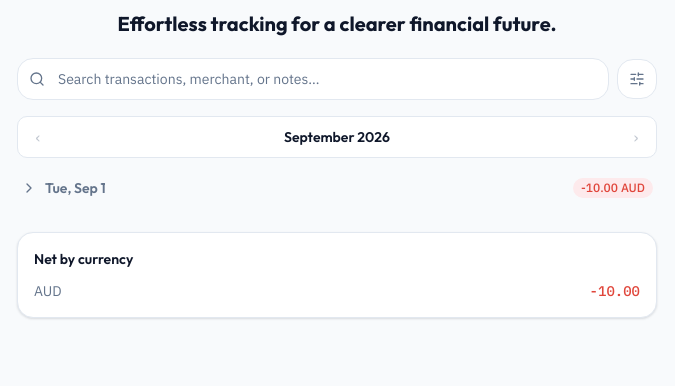
按天折叠（UX brief 要求：今天默认展开，其余天默认收起） › 点天头可以展开/收起对应的那一天
Click the button "Tue, Sep 1 -10.00 AUD" at (75, 188), box top-left (17, 174), bottom-right (657, 202)
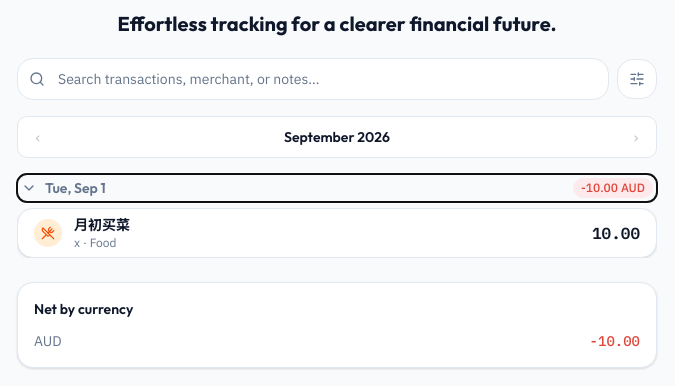
Now the button "Tue, Sep 1 -10.00 AUD" is expanded
Click the button "Tue, Sep 1 -10.00 AUD" at (75, 188), box top-left (17, 174), bottom-right (657, 202)
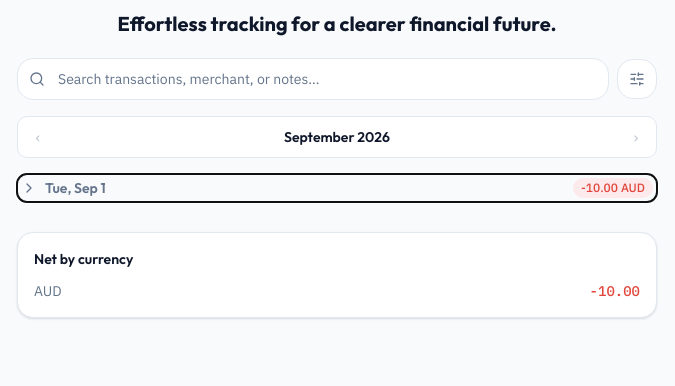
Now the button "Tue, Sep 1 -10.00 AUD" is collapsed, box top-left (17, 174), bottom-right (657, 202)
